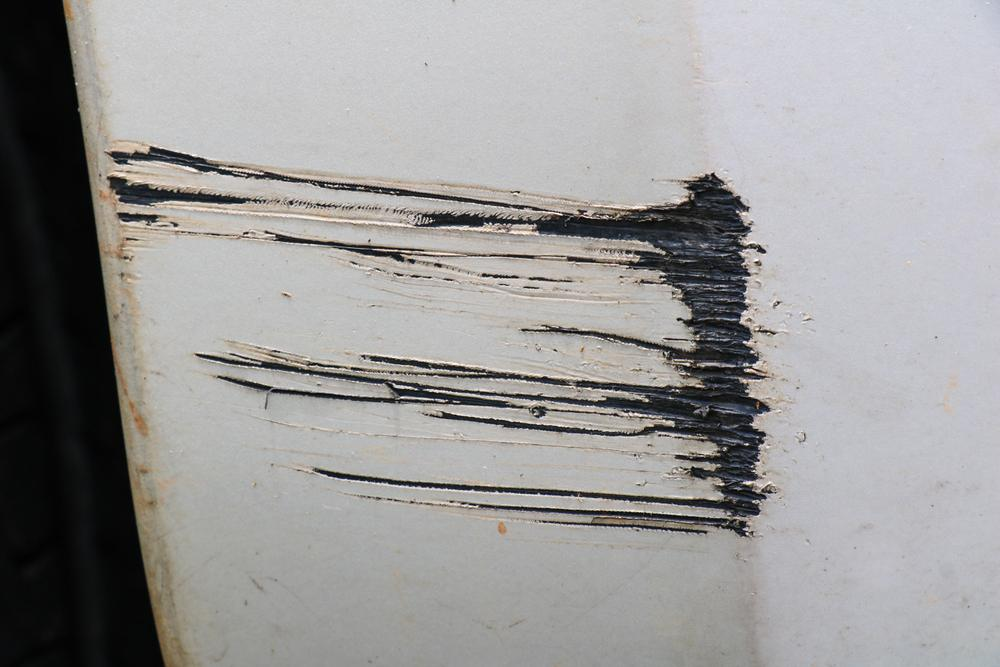scratch: (103, 134, 810, 544)
